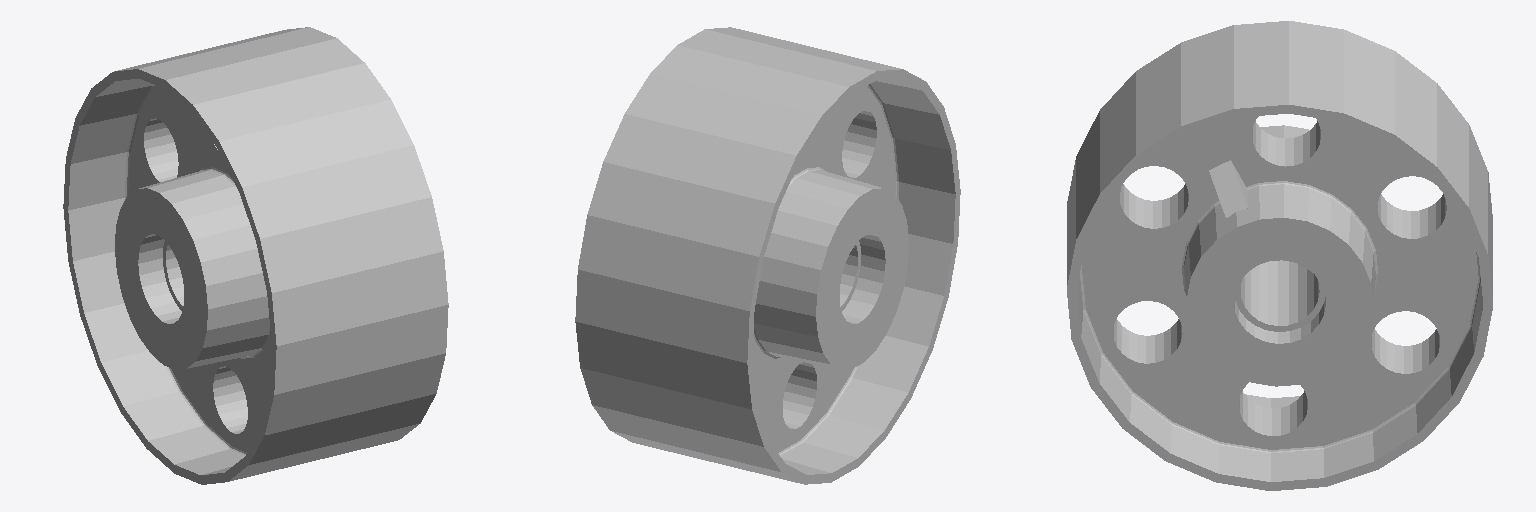
Rendered from original-56.obj.
3 renders of one model, left to right at view 1: azimuth 30°, elevation 25°; view 2: azimuth 150°, elevation 25°; view 3: azimuth 270°, elevation 25°, orthographic.
Parts seen in each view (by area): view 1: W-POR-1650-1_1_4_2/mesh61/mesh61-geometry#mesh61-geometry; view 2: W-POR-1650-1_1_4_2/mesh61/mesh61-geometry#mesh61-geometry; view 3: W-POR-1650-1_1_4_2/mesh61/mesh61-geometry#mesh61-geometry.
Part boxes in pixels (bbox=[...]): W-POR-1650-1_1_4_2/mesh61/mesh61-geometry#mesh61-geometry: bbox=[63, 27, 448, 484]; W-POR-1650-1_1_4_2/mesh61/mesh61-geometry#mesh61-geometry: bbox=[575, 27, 960, 484]; W-POR-1650-1_1_4_2/mesh61/mesh61-geometry#mesh61-geometry: bbox=[1067, 21, 1492, 490].
Bounding box in the file's own units: 0.0513 × 0.1001 × 0.1001.